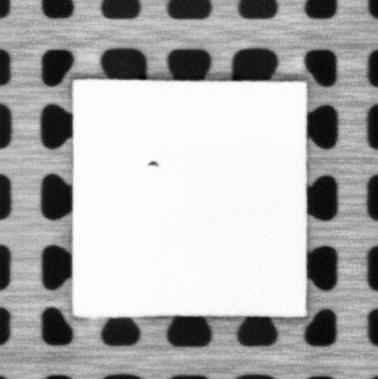DIE_INK: (146, 159, 159, 168)
